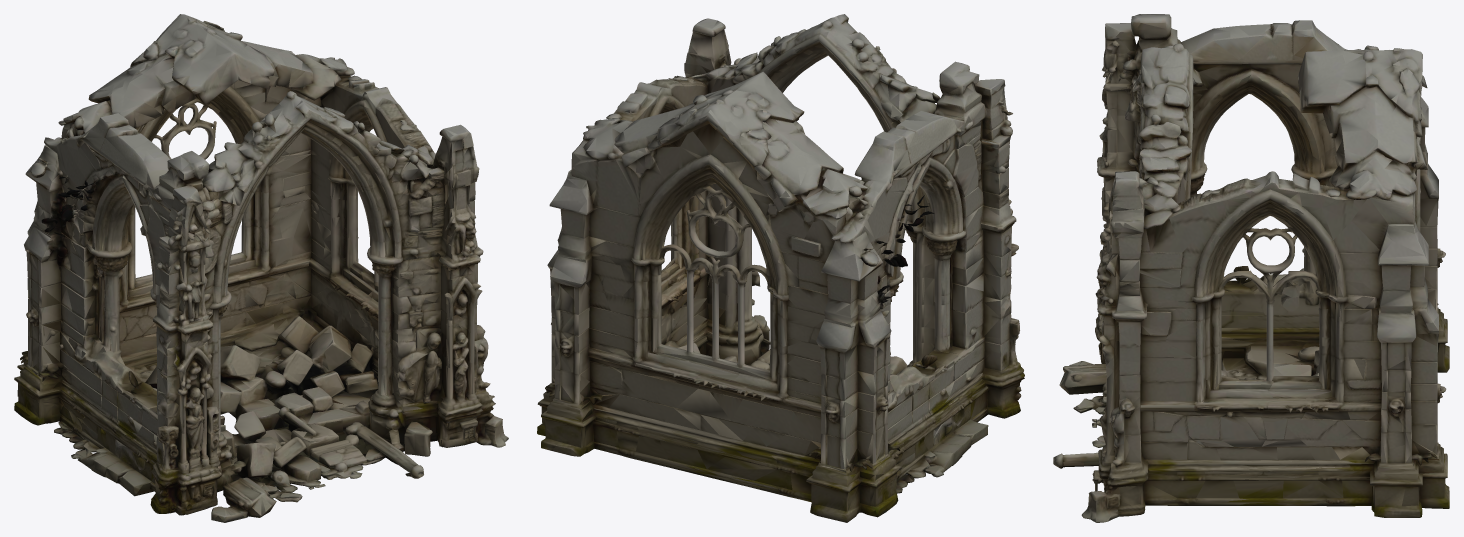
Rendered from ruin-chapel.glb.
The picture shows the model from 3 angles, left to right: view 1: azimuth 30°, elevation 25°; view 2: azimuth 150°, elevation 25°; view 3: azimuth 270°, elevation 25°; orthographic projection. The views are drawn at different scales.
Parts seen in each view (by area): view 1: tripo_node_f45cd38f; view 2: tripo_node_f45cd38f; view 3: tripo_node_f45cd38f.
Part boxes in pixels (x1,y1,x2,y2): tripo_node_f45cd38f: (14, 14, 508, 522); tripo_node_f45cd38f: (537, 14, 1024, 522); tripo_node_f45cd38f: (1053, 14, 1449, 522).
Bounding box in the file's own units: 0.9636 × 0.9789 × 0.8987.
Materials: 1 (1 with a texture image).
